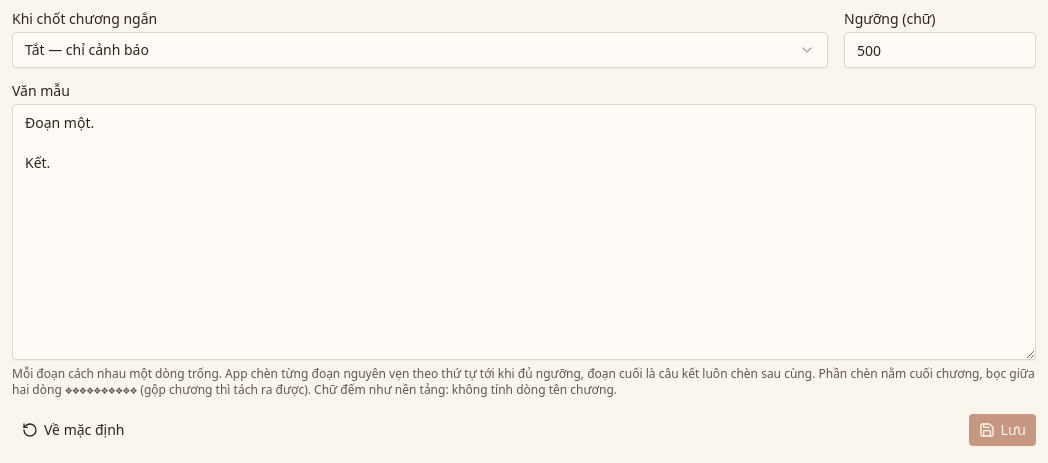
Test: PaddingSettingsEditor › Về mặc định hỏi trước rồi nạp lại văn mẫu gốc
The image size is (1048, 463).
Expected: the text box labelled "Văn mẫu" is shown, [12, 104, 1036, 360]
Step 1. Click the button "Về mặc định" → point(73, 430), box [12, 414, 134, 446]
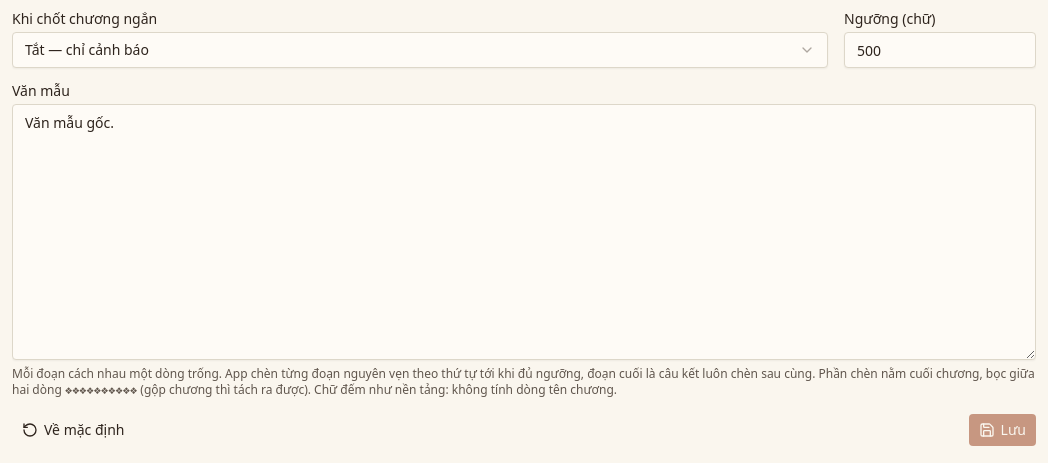
Now the text box showing "Văn mẫu gốc." is shown, box [12, 104, 1036, 360]
